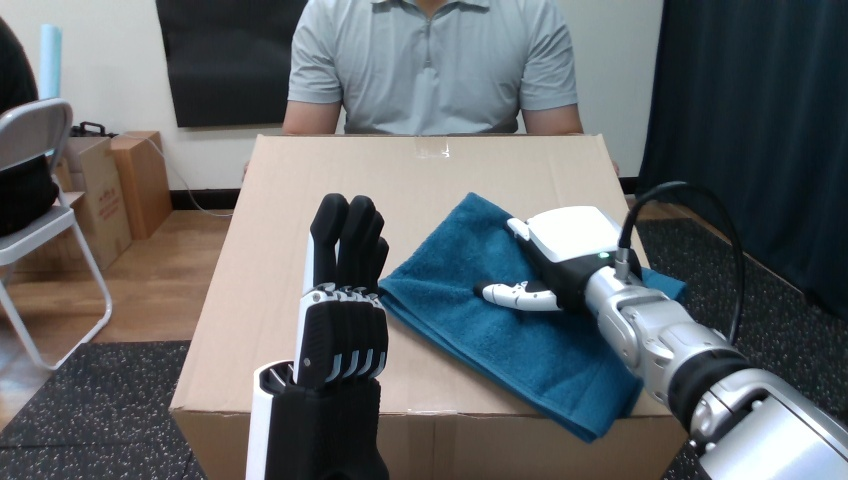left robot hand: (246, 193, 388, 478), (737, 260, 847, 423), (639, 220, 733, 330)
